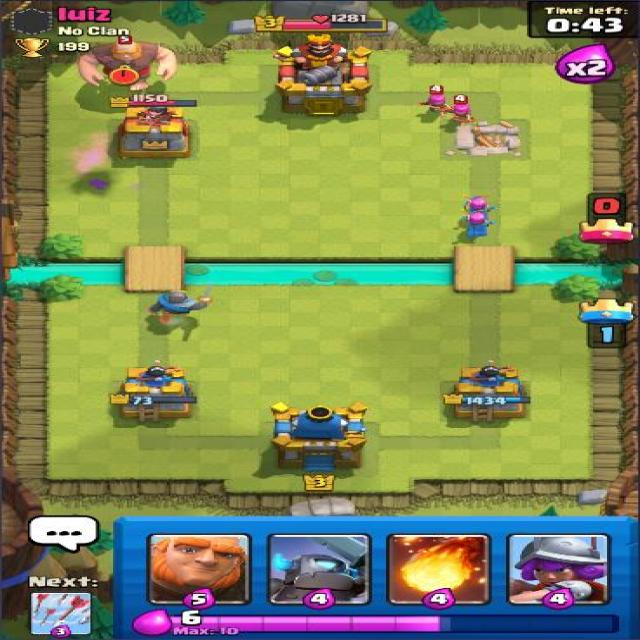Enemy-Archer: (419, 83, 454, 115), (447, 94, 480, 125)
Enemy-Giant: (77, 34, 179, 92)
Player-Archer: (456, 191, 499, 219), (456, 210, 499, 237)
Player-Knight: (146, 285, 217, 316)
